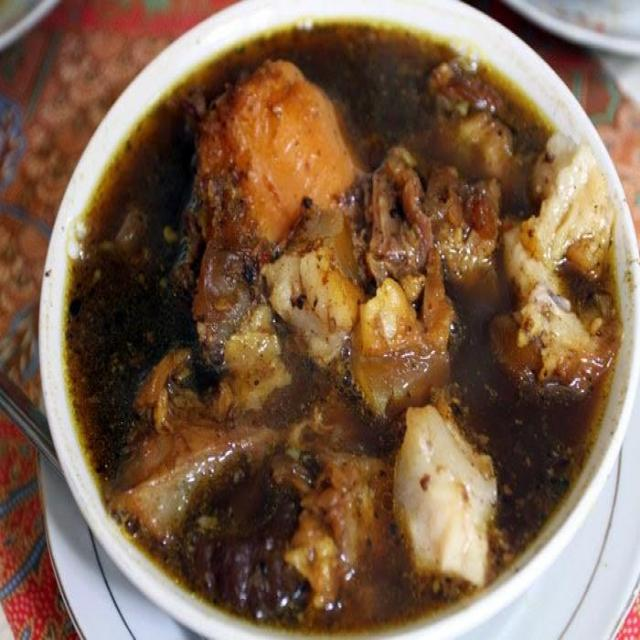Rawon: (89, 36, 596, 593)
